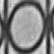no answer: (8, 0, 46, 54)
